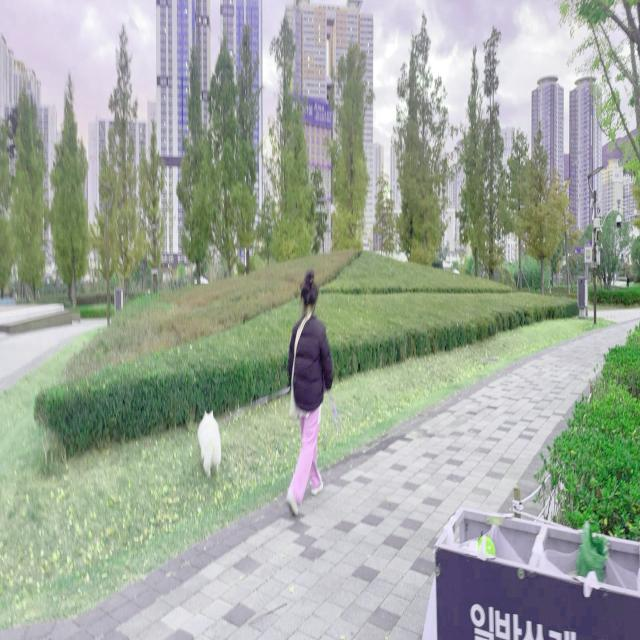Leashed_Dog: (197, 374, 303, 482)
